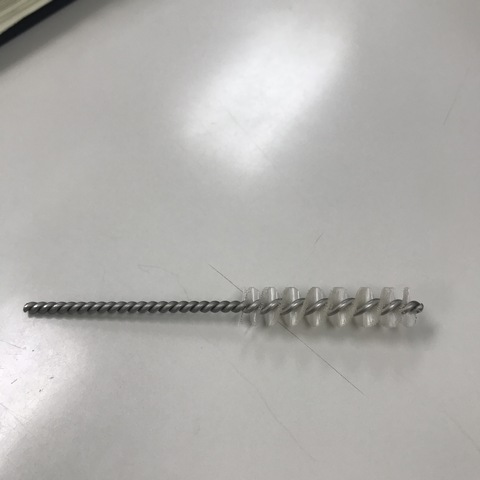Twist Brush-B: (20, 286, 428, 329)
